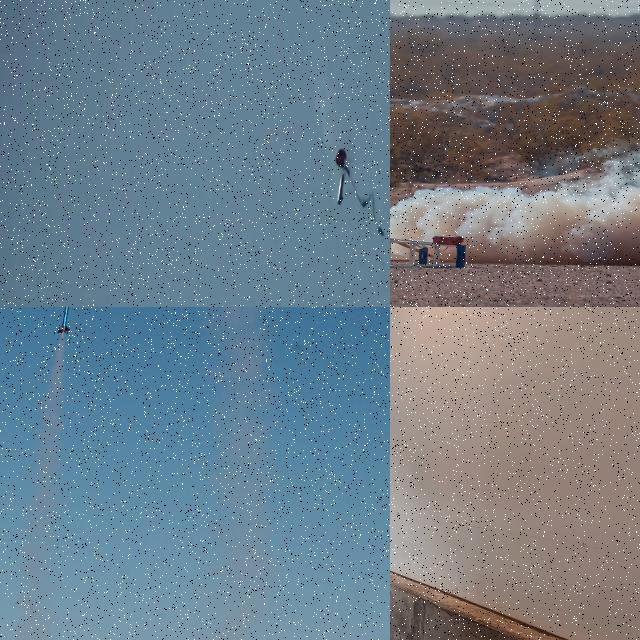Rocket: (57, 307, 71, 335)
